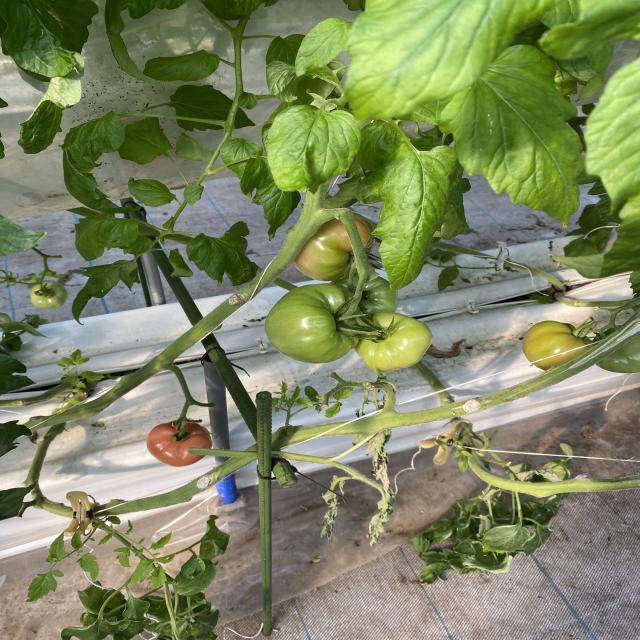yesil: (239, 281, 595, 389)
